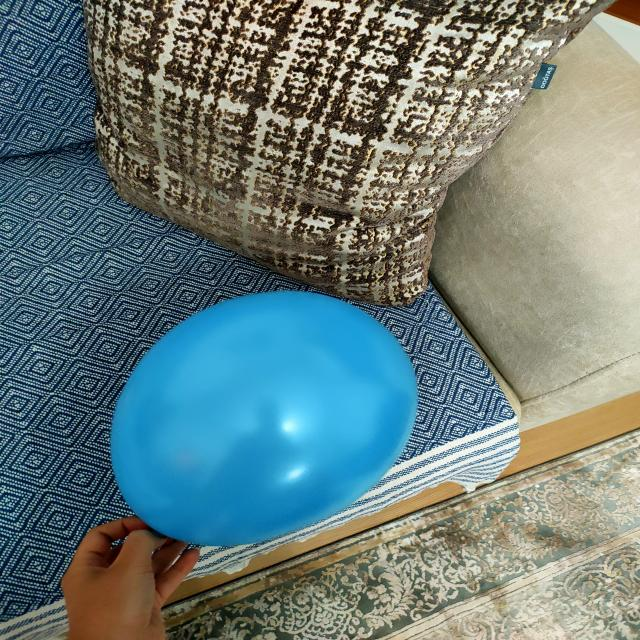blue: (113, 289, 417, 545)
